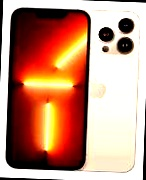iphone: (58, 10, 139, 171)
